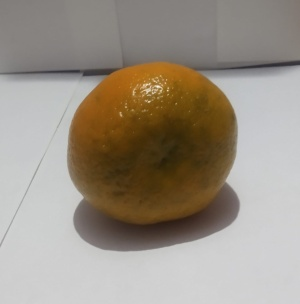BAD: (68, 58, 239, 227)
